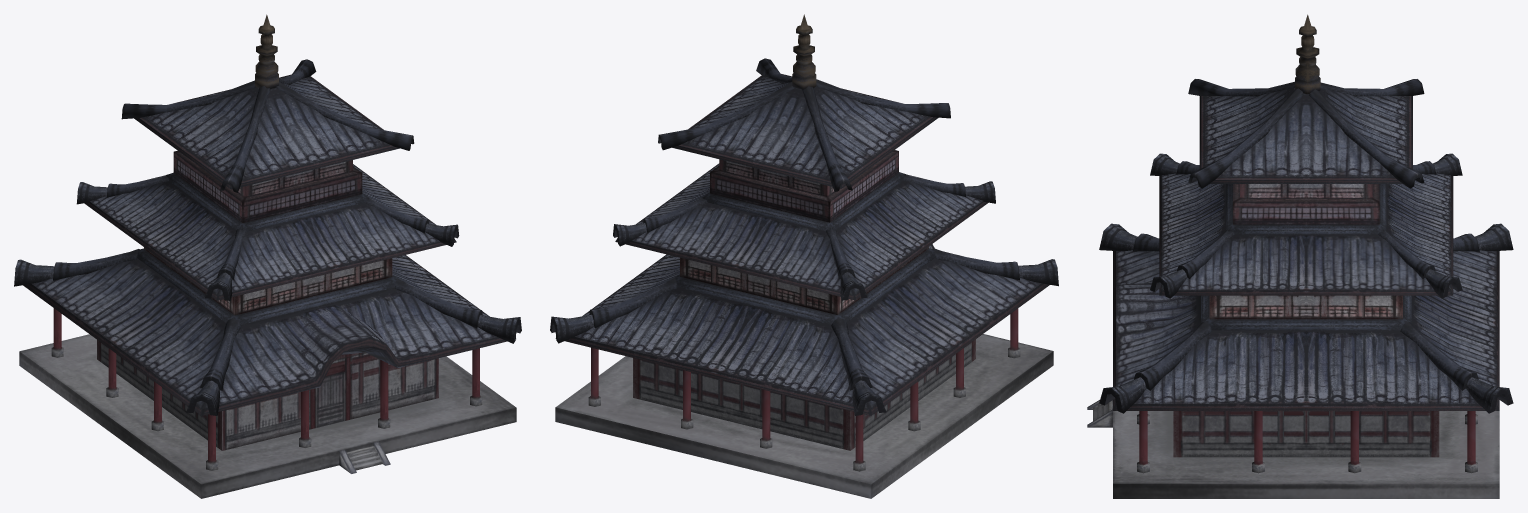
File: PRP_TempleExtBG.FBX
The picture shows the model from 3 angles, left to right: view 1: azimuth 30°, elevation 25°; view 2: azimuth 150°, elevation 25°; view 3: azimuth 270°, elevation 25°; orthographic projection. The views are drawn at different scales.
Parts seen in each view (by area): view 1: PRP_TempleExtBG; view 2: PRP_TempleExtBG; view 3: PRP_TempleExtBG.
Boxes of the visible parts, <box> form: PRP_TempleExtBG: <box>14,14,521,498</box>; PRP_TempleExtBG: <box>550,14,1058,498</box>; PRP_TempleExtBG: <box>1087,14,1513,498</box>.
Size of the model in its own units: 5330 by 5756 by 5515.
Materials: 1 (1 with a texture image).
